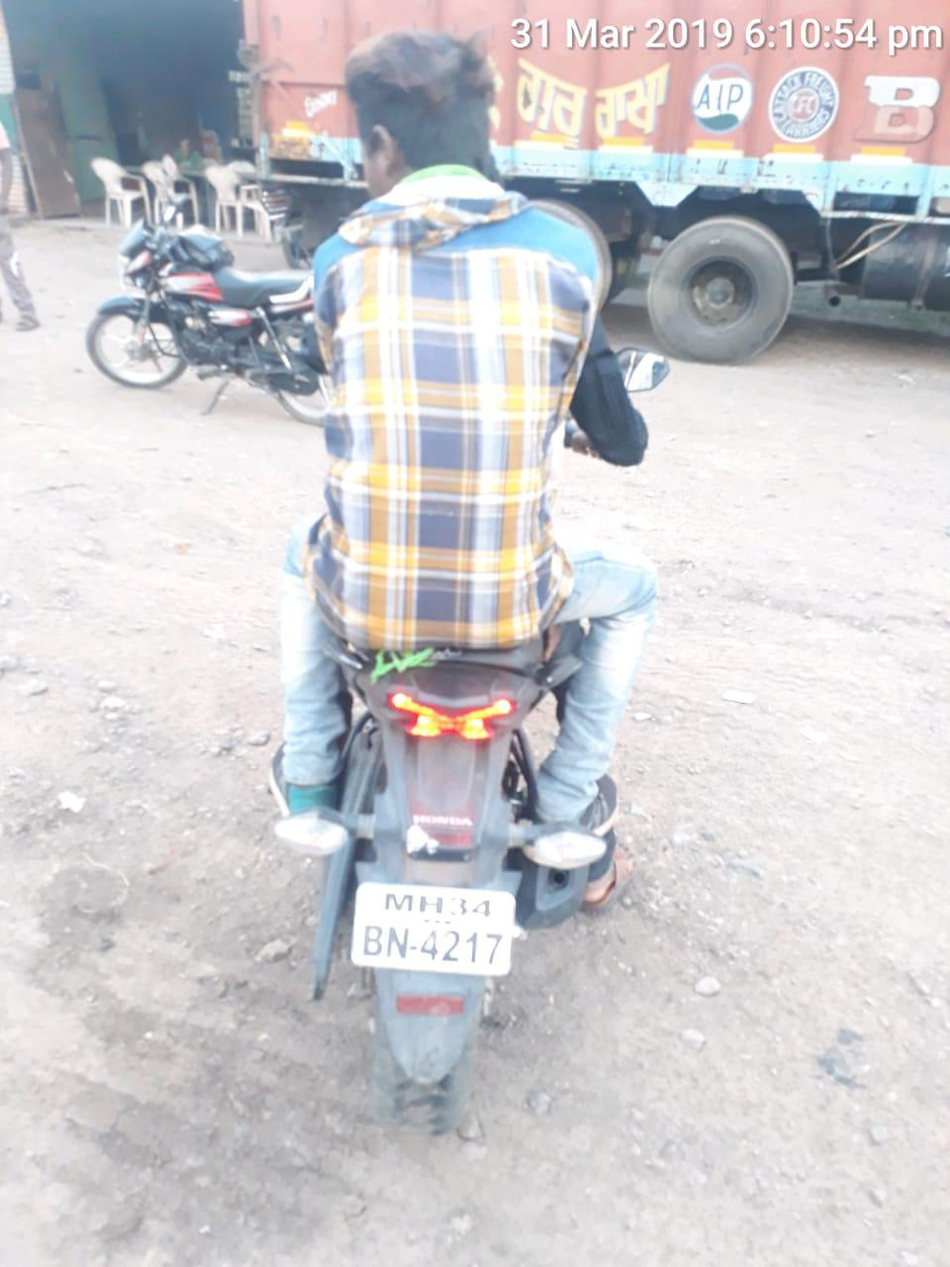plate: (337, 872, 531, 981)
